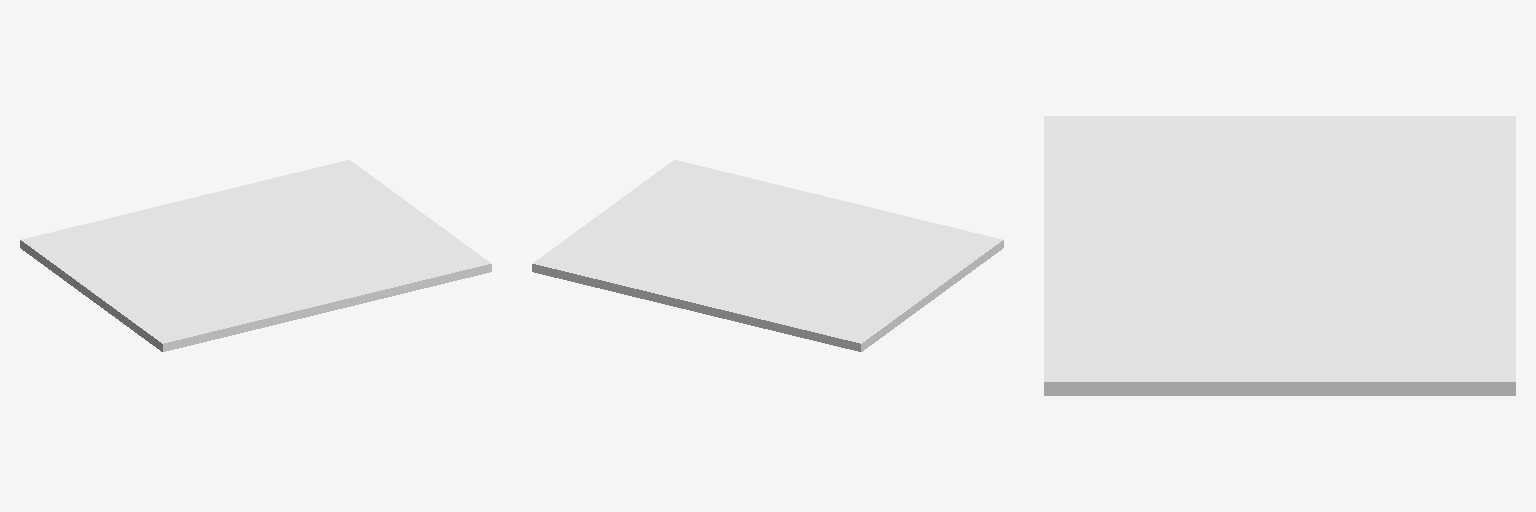
robot.urdf — wall1_5.urdf:
<?xml version="1.0" ?>
<robot name="wall1_5.urdf">
  <link name="baseLink">
    <inertial>
      <origin rpy="0 0 0" xyz="0 0 0"/>
       <mass value="0.0"/>
       <inertia ixx="0" ixy="0" ixz="0" iyy="0" iyz="0" izz="0"/>
    </inertial>
    <visual>
      <origin rpy="0 0 0" xyz="0 0 0"/>
      <geometry>
        <mesh filename="wall1_5.obj" scale="1.0 1.0 1.0"/>
      </geometry>
      <material name="white">
       <color rgba="1 1 1 1"/>
     </material>
    </visual>
    <collision concave="yes">
      <origin rpy="0 0 0" xyz="0 0 0"/>
      <geometry>
        <mesh filename="wall1_5.obj" scale="1.0 1.0 1.0"/>
        <!-- You could also specify the collision (for the wall1_5) with a "box" tag: -->
        <!-- <box size=".06 .06 .06"/> -->
      </geometry>
    </collision>
  </link>
</robot>
        

--- What the picture shows (computed from the rendered views, not written in the file) ---
The picture shows the robot from 3 angles, left to right: view 1: azimuth 30°, elevation 25°; view 2: azimuth 150°, elevation 25°; view 3: azimuth 270°, elevation 25°; orthographic projection.
Robot: wall1_5.urdf — 1 links, 0 joints (none); root link baseLink; default pose: all joints at 0.
Visible links, largest first — view 1: baseLink; view 2: baseLink; view 3: baseLink.
Boxes of the visible links, x1,y1,x2,y2 form: baseLink: (20,160,491,351); baseLink: (532,160,1003,351); baseLink: (1044,116,1515,395).
Bounding box of the posed robot: 3.67 × 2.75 × 0.091 m (x, y, z).
Meshes: 1 distinct files referenced, 1 mesh visuals loaded (1 OBJ).
